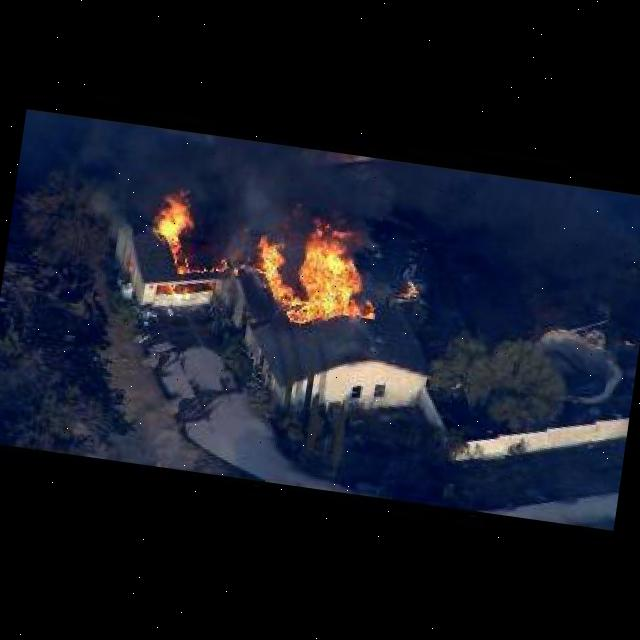fire: (287, 208, 388, 334), (146, 180, 202, 275), (250, 235, 313, 308), (402, 278, 419, 300), (212, 255, 228, 272), (194, 266, 208, 272), (232, 265, 238, 276)
